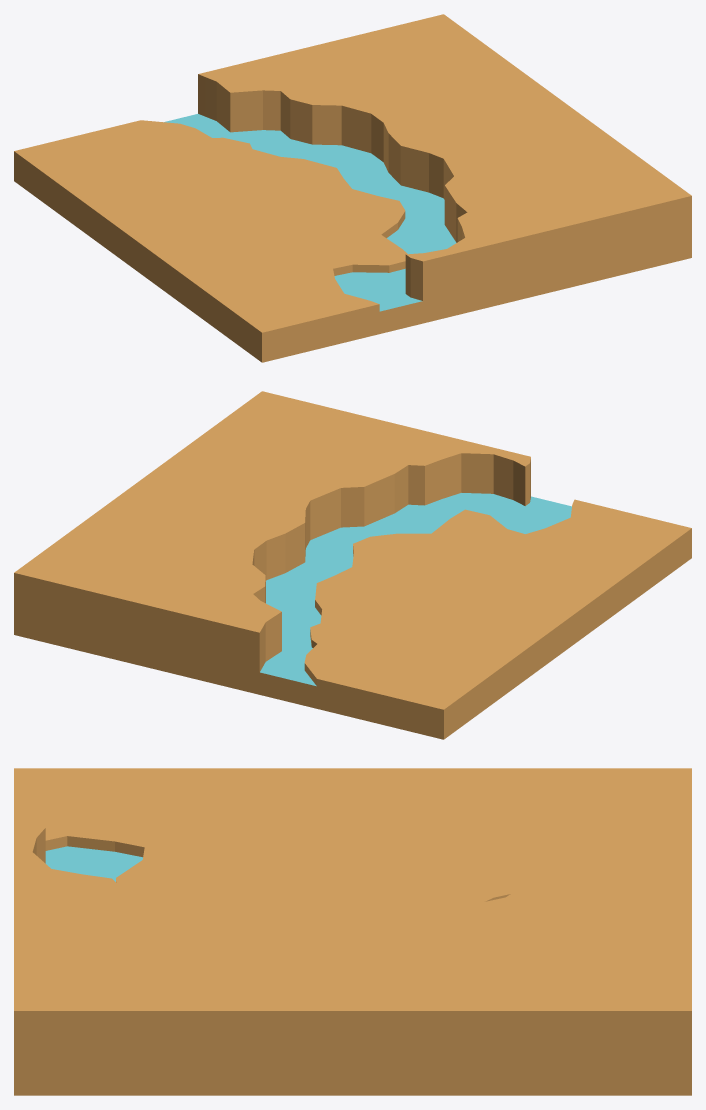
File: ground.fbx
The picture shows the model from 3 angles, top to bottom: view 1: azimuth 30°, elevation 25°; view 2: azimuth 150°, elevation 25°; view 3: azimuth 270°, elevation 25°; orthographic projection. The views are drawn at different scales.
Parts seen in each view (by area): view 1: Cube; view 2: Cube; view 3: Cube.
Part boxes in pixels (x1,y1,x2,y2): Cube: (14,14,691,362); Cube: (14,391,691,739); Cube: (14,768,691,1095).
Size of the model in its own units: 40 by 5.52 by 40.
